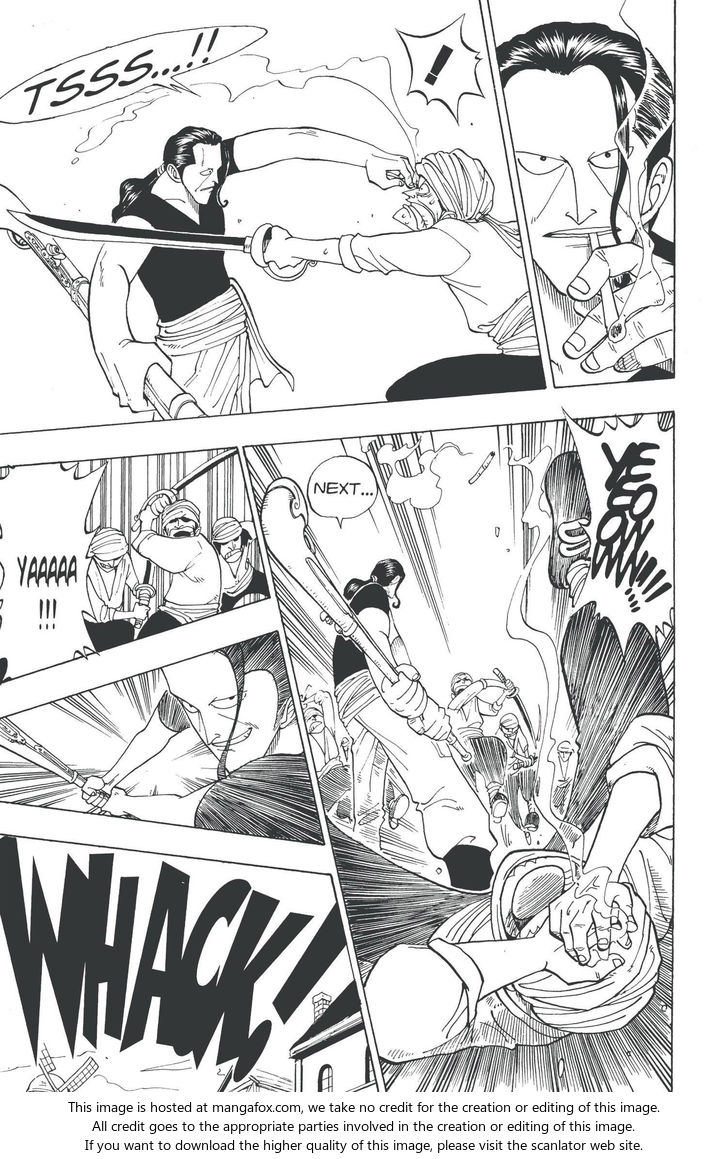bubble: (562, 407, 674, 660), (0, 26, 267, 122), (0, 462, 108, 682), (396, 13, 485, 126), (307, 456, 378, 528)
